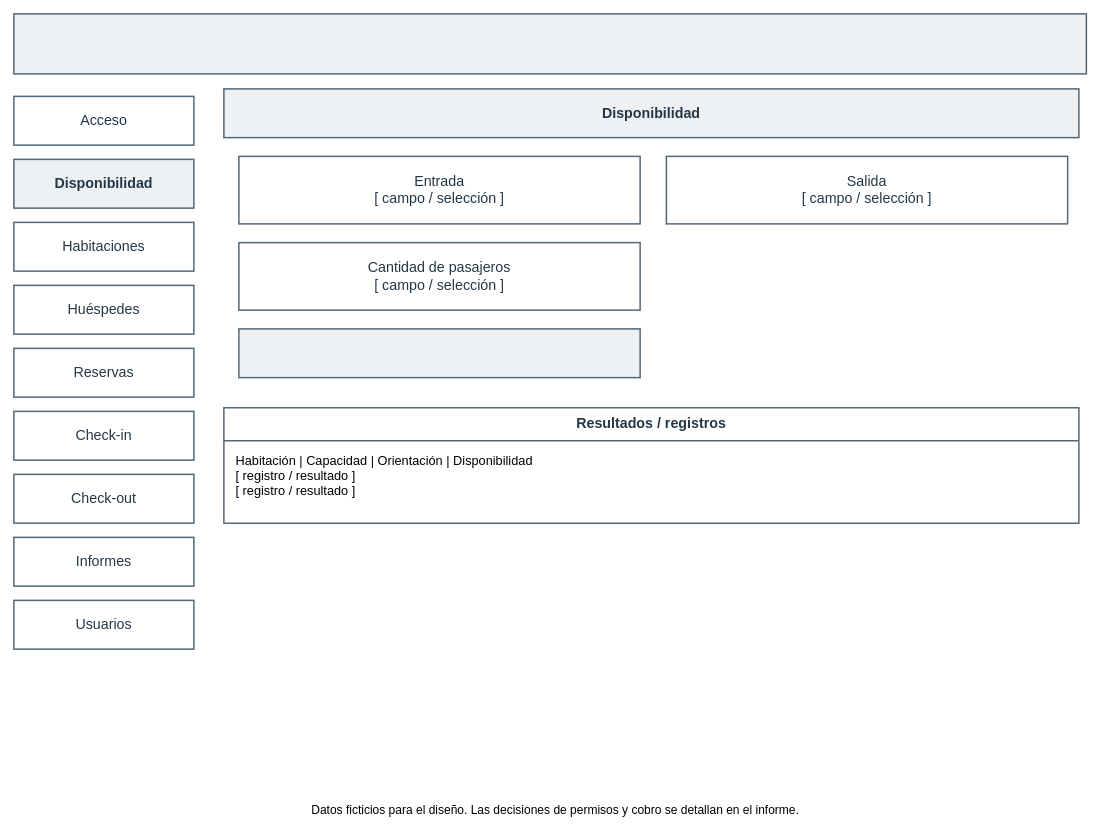
This 1100x836 diagram has some shape labels left out. The centre of each missing label's shape, as x and y in pixels:
"Consultar disponibilidad" belongs at pixel 439 353.
"Hotel Duerme Bien · Sistema de pasajeros" belongs at pixel 550 43.
